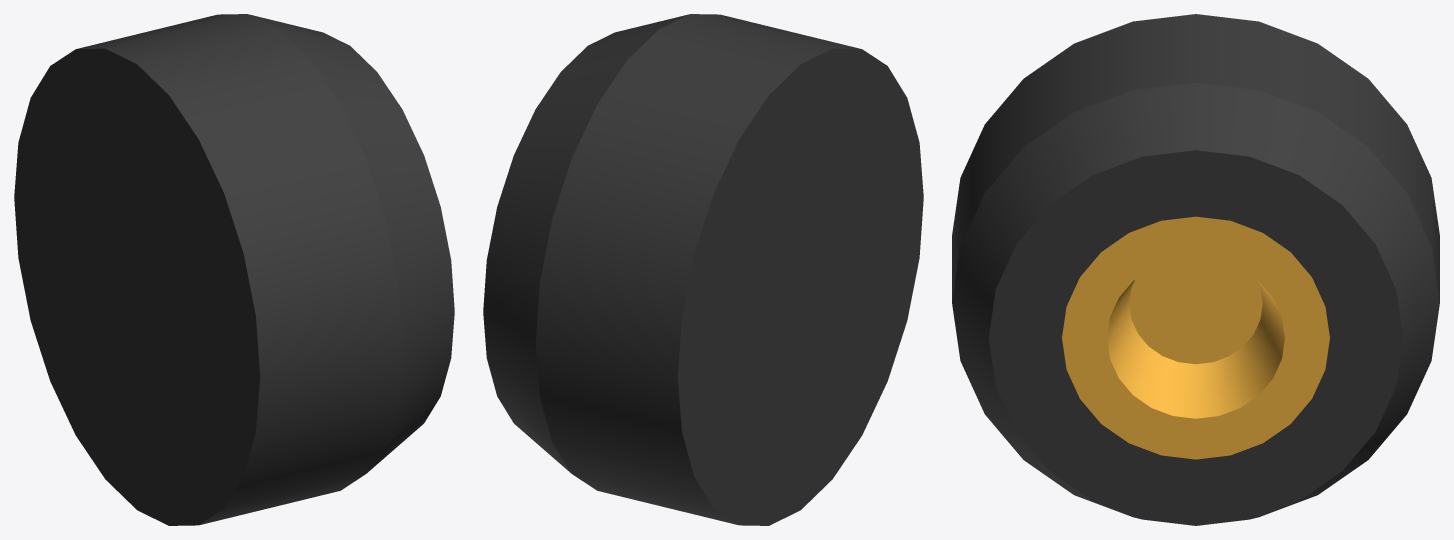
Rendered from wheelTractorFront.fbx.
The picture shows the model from 3 angles, left to right: view 1: azimuth 30°, elevation 25°; view 2: azimuth 150°, elevation 25°; view 3: azimuth 270°, elevation 25°; orthographic projection.
Parts seen in each view (by area): view 1: wheelTractorFront; view 2: wheelTractorFront; view 3: wheelTractorFront.
Part boxes in pixels (x1,y1,x2,y2): wheelTractorFront: [14, 14, 454, 525]; wheelTractorFront: [483, 14, 923, 525]; wheelTractorFront: [952, 14, 1439, 525].
Size of the model in its own units: 2.69 by 5.39 by 5.39.
